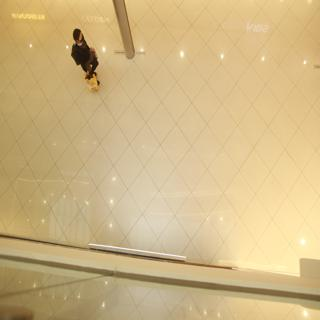person: (69, 23, 105, 89)
